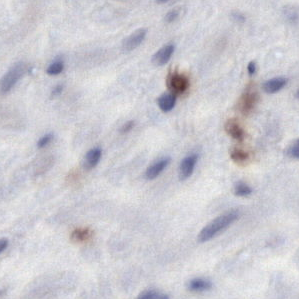Lymphocyte: (165, 72, 195, 95)
